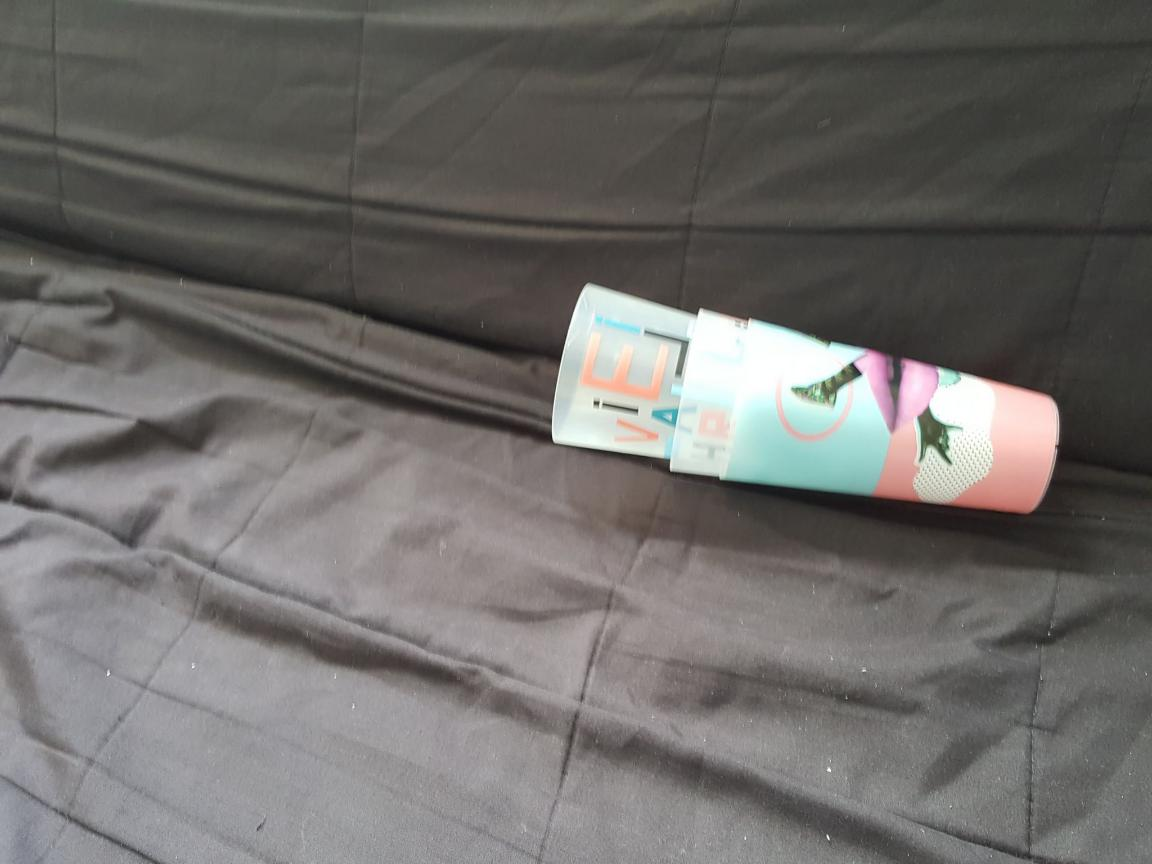ecocup: (721, 312, 1061, 514), (670, 307, 988, 505), (552, 284, 877, 476)
